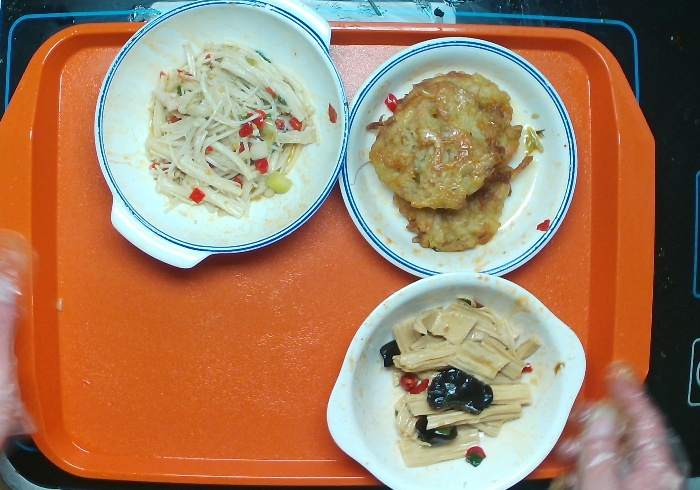HZYJPL-Dai_Er_Bai_Yuan_Wan: (313, 270, 593, 489)
HZYJPL-Lan_Bian_Dai_Er_Wan: (87, 1, 352, 274)
HZYJPL-Lan_Bian_Yuan_Die: (331, 33, 585, 282)
